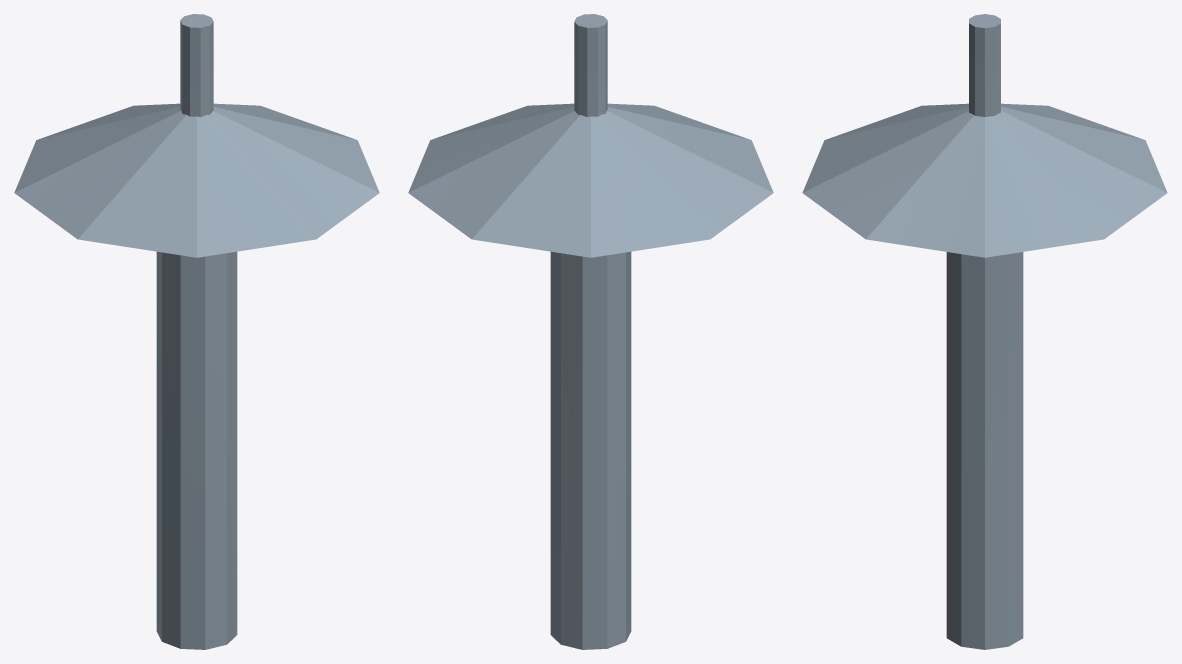
The model's file is satellite_dish-05.glb.
3 renders of one model, left to right at view 1: azimuth 30°, elevation 25°; view 2: azimuth 150°, elevation 25°; view 3: azimuth 270°, elevation 25°, orthographic.
Parts seen in each view (by area): view 1: world; view 2: world; view 3: world.
Part boxes in pixels (bbox=[...]): world: bbox=[14, 14, 379, 649]; world: bbox=[408, 14, 773, 649]; world: bbox=[802, 14, 1167, 649].
Size of the model in its own units: 1.07 by 2 by 1.08.
